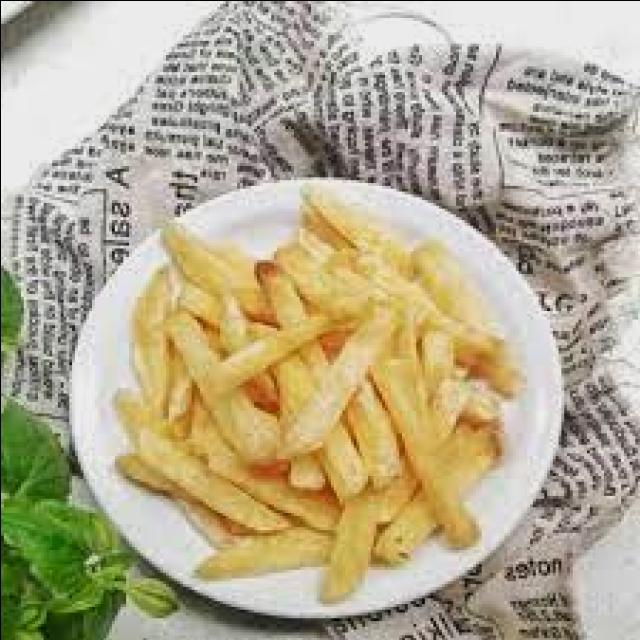kentang goreng: (114, 216, 501, 597)
